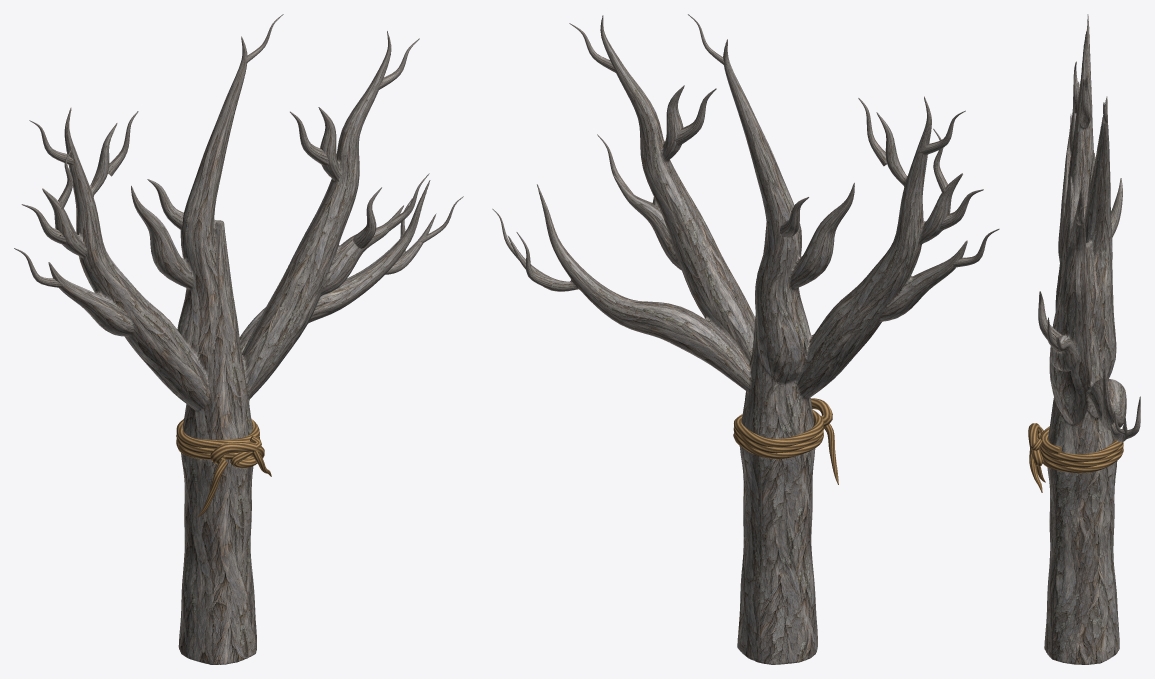
Rendered from great-branching-bough-v01.glb.
3 views of the same model, side by side, from view 1: azimuth 30°, elevation 25°; view 2: azimuth 150°, elevation 25°; view 3: azimuth 270°, elevation 25° (orthographic). The views are drawn at different scales.
Parts seen in each view (by area): view 1: Great branching bough — pale deadwood, Hemp binding and tied ends; view 2: Great branching bough — pale deadwood, Hemp binding and tied ends; view 3: Great branching bough — pale deadwood, Hemp binding and tied ends.
Part boxes in pixels (bbox=[...]): Great branching bough — pale deadwood: bbox=[14, 14, 463, 664]; Hemp binding and tied ends: bbox=[176, 419, 271, 517]; Great branching bough — pale deadwood: bbox=[492, 14, 999, 664]; Hemp binding and tied ends: bbox=[733, 398, 838, 484]; Great branching bough — pale deadwood: bbox=[1038, 14, 1140, 664]; Hemp binding and tied ends: bbox=[1028, 423, 1123, 492].
Size of the model in its own units: 4.91 by 6.04 by 1.05.
2 materials, 2 textured.
